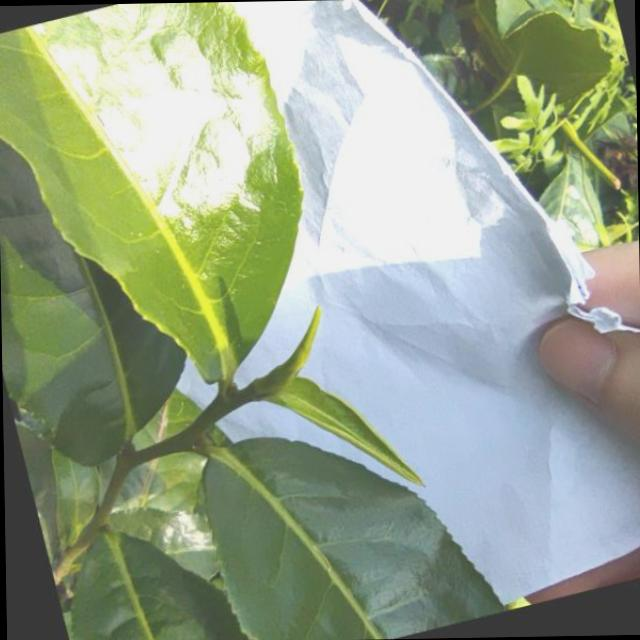Stem: (239, 387, 255, 400)
